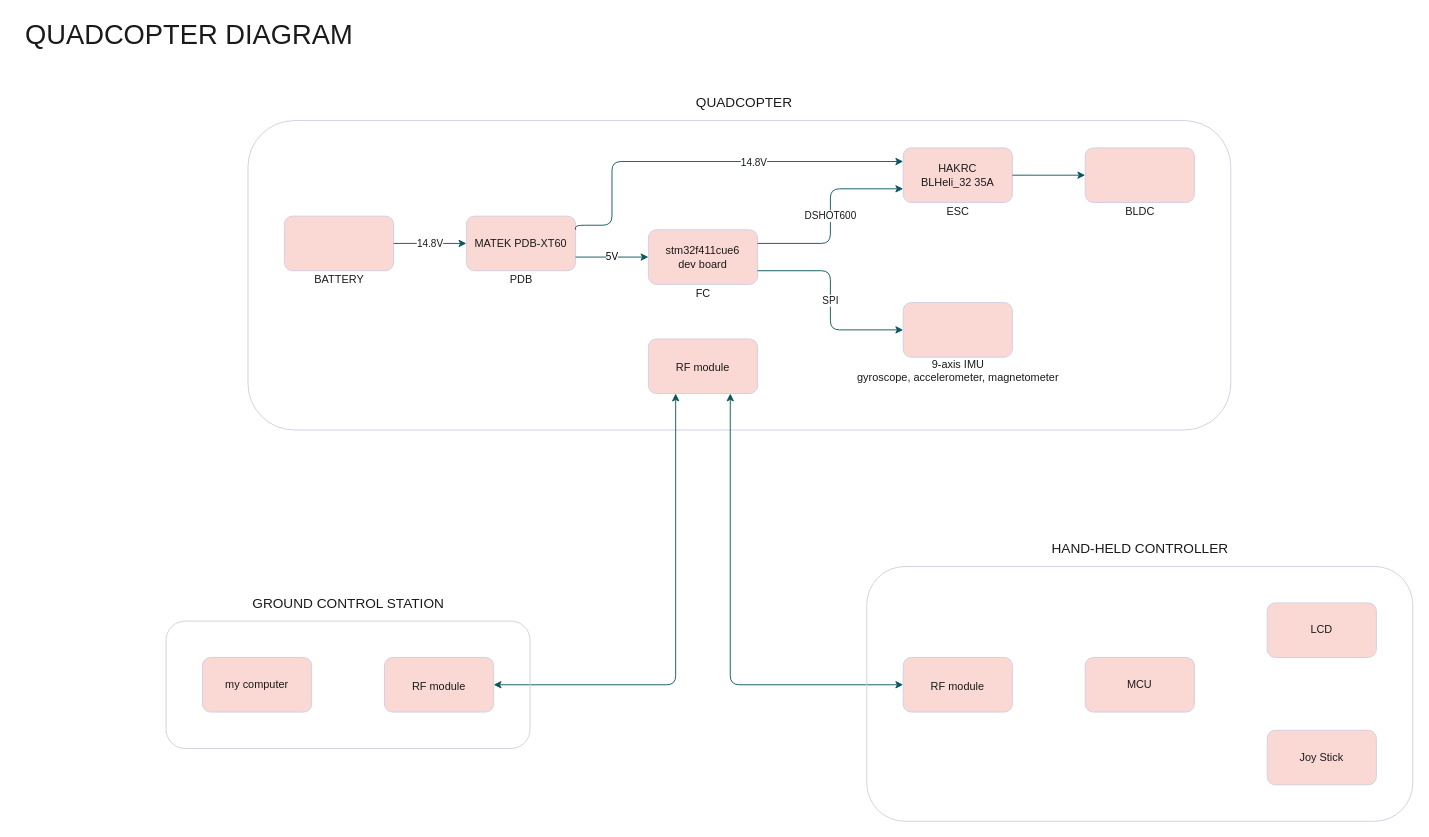
This 1429x837 diagram has some shape labels left out. Here are the shapes that lost their labels. From the top down, the box of each, then its label:
(1084, 147, 1194, 202): iFlight XING E 2207 2450KV
(283, 215, 394, 271): Lipo battery 4s 1800mAh 65C
(902, 302, 1012, 357): icm-20948 breakout board
